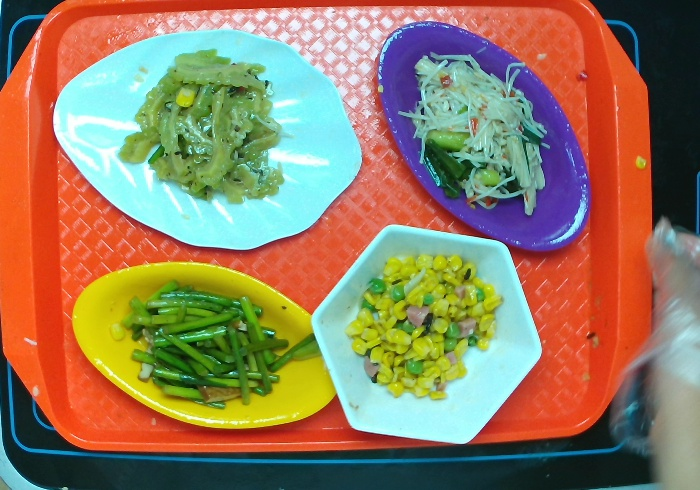RJxy-Bai_Ye_Pan: (48, 25, 366, 253)
RJxy-Fen_Hong_Tuo_Yuan: (373, 17, 596, 255)
RJxy-Huang_Se_Tuo_Yuan: (68, 258, 341, 434)
RJxy-Liu_Jiao_Wan: (307, 220, 546, 448)
